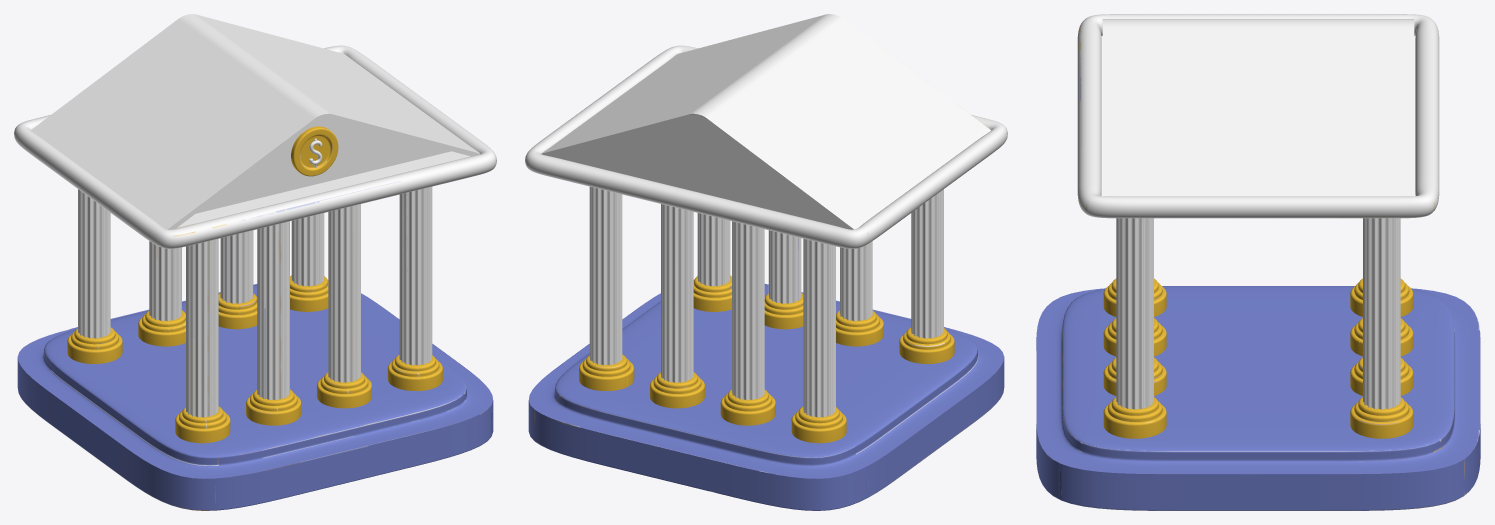
File: bank.glb
3 views of the same model, side by side, from view 1: azimuth 30°, elevation 25°; view 2: azimuth 150°, elevation 25°; view 3: azimuth 270°, elevation 25° (orthographic). The views are drawn at different scales.
Visible parts, largest first — view 1: Bank; view 2: Bank; view 3: Bank.
Boxes of the visible parts, left/top/right/bottom form: Bank: left=14, top=14, right=496, bottom=510; Bank: left=525, top=14, right=1007, bottom=510; Bank: left=1036, top=14, right=1480, bottom=510.
Bounding box in the file's own units: 2.04 × 1.98 × 2.
1 material, 1 textured.
